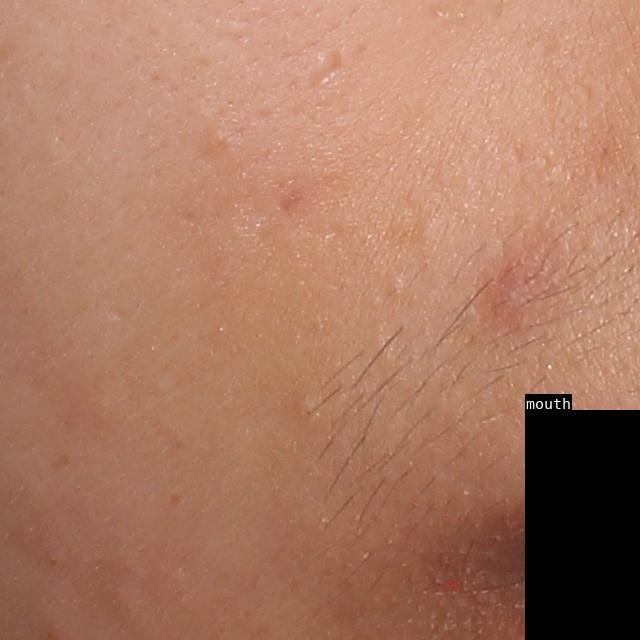atrophic_scar: (306, 47, 344, 93)
comedo: (199, 125, 243, 169), (295, 393, 321, 426)
